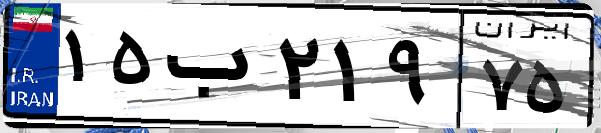1: (330, 28, 385, 110), (57, 26, 110, 100)
2: (270, 28, 330, 110)
5: (525, 38, 570, 115), (110, 28, 158, 98)
7: (475, 38, 525, 113)
9: (385, 28, 445, 110)
ب: (158, 20, 270, 120)
